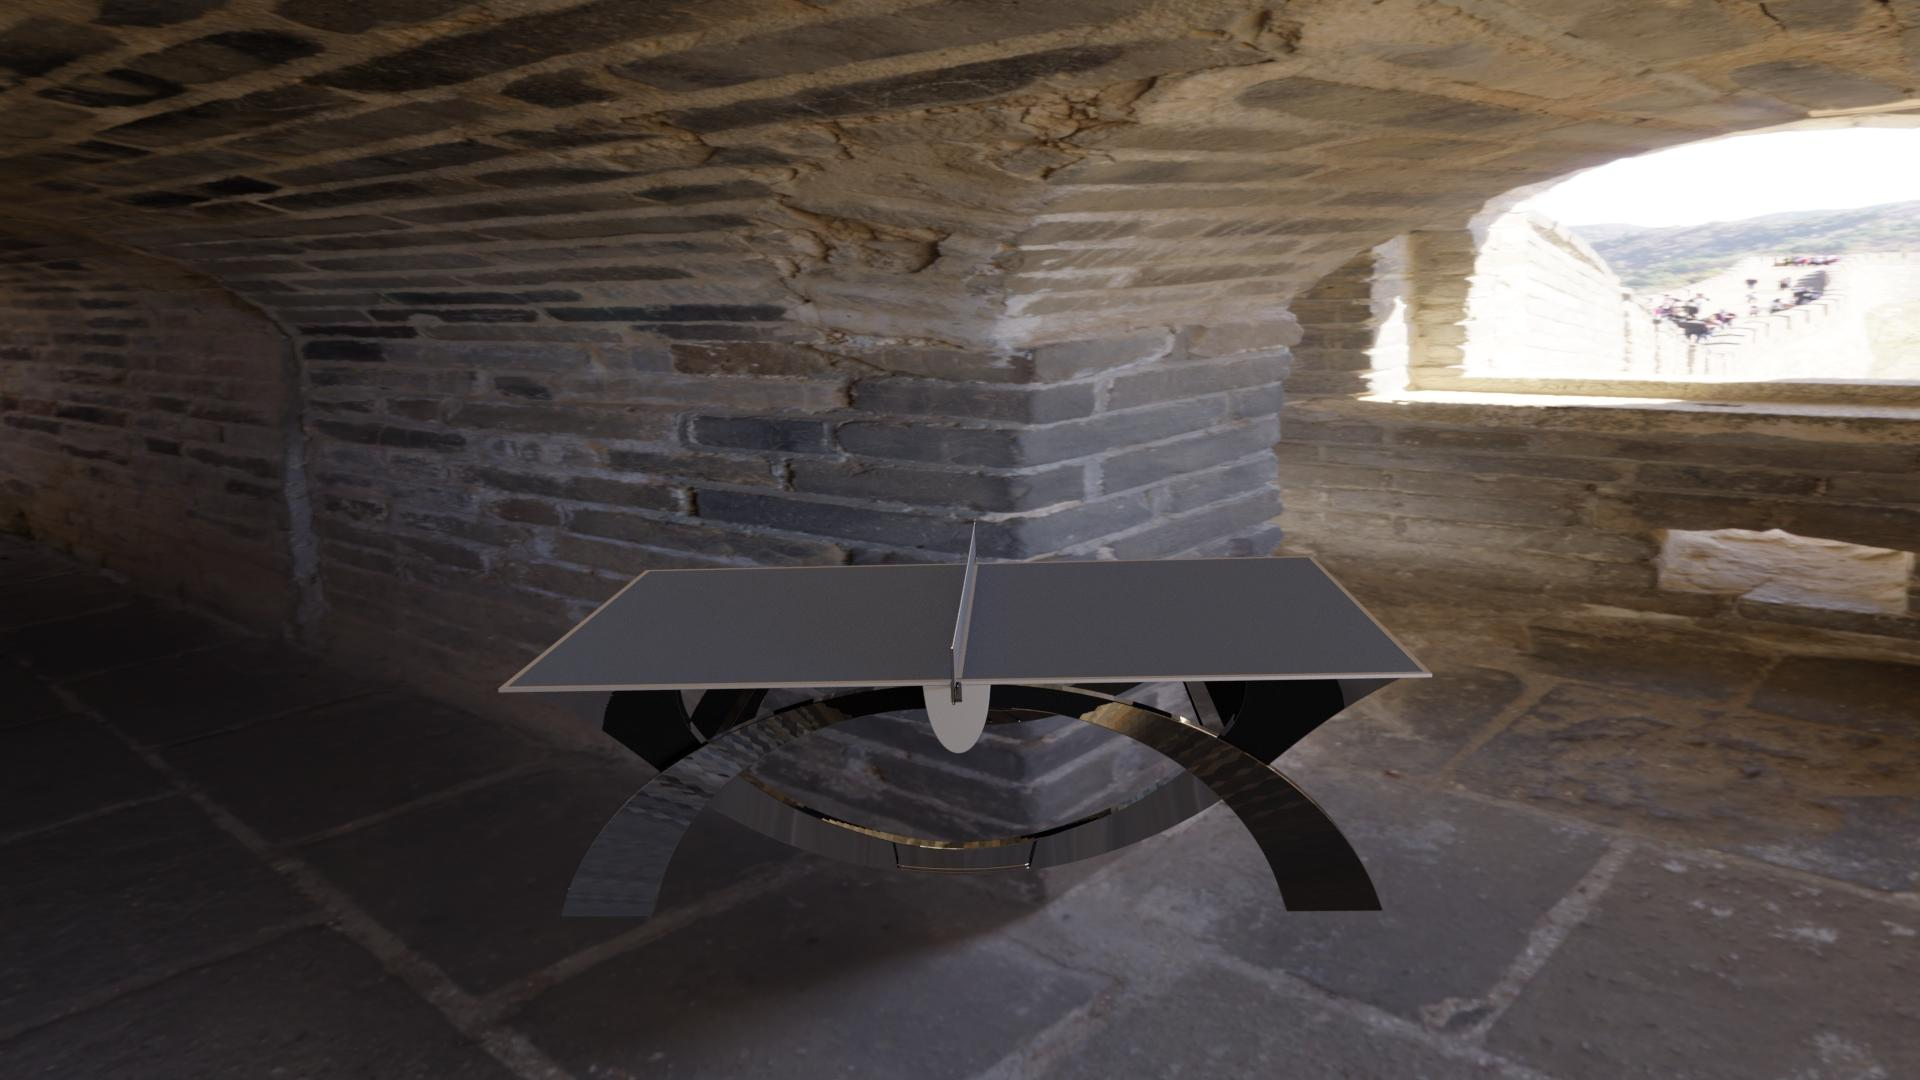table: (508, 558, 1423, 687)
